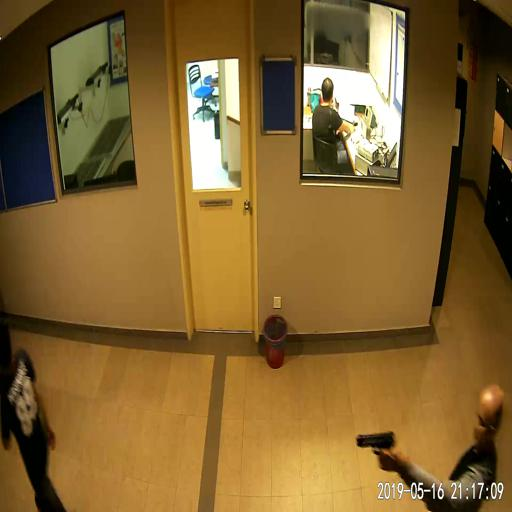pistol: (357, 430, 394, 471)
